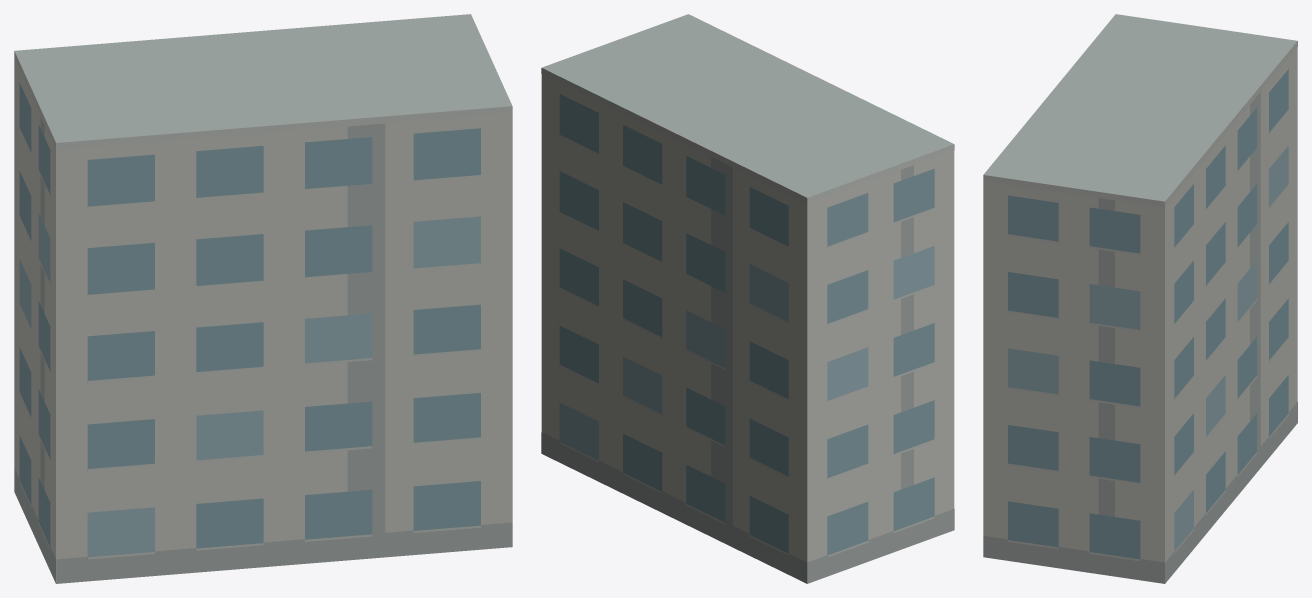
File: residential-24d7a36e-dafd-46f4-a0be-62d93b99945e.glb
3 renders of one model, left to right at view 1: azimuth 30°, elevation 25°; view 2: azimuth 150°, elevation 25°; view 3: azimuth 270°, elevation 25°, orthographic. The views are drawn at different scales.
Parts seen in each view (by area): view 1: residential-24d7a36e-dafd-46f4-a0be-62d93b99945e.tmp; view 2: residential-24d7a36e-dafd-46f4-a0be-62d93b99945e.tmp; view 3: residential-24d7a36e-dafd-46f4-a0be-62d93b99945e.tmp.
Boxes of the visible parts, box(x1,y1,x2,y2) form: residential-24d7a36e-dafd-46f4-a0be-62d93b99945e.tmp: box(14, 14, 512, 583); residential-24d7a36e-dafd-46f4-a0be-62d93b99945e.tmp: box(541, 14, 954, 583); residential-24d7a36e-dafd-46f4-a0be-62d93b99945e.tmp: box(983, 14, 1297, 583).
Size of the model in its own units: 16.06 by 15.25 by 11.38.
